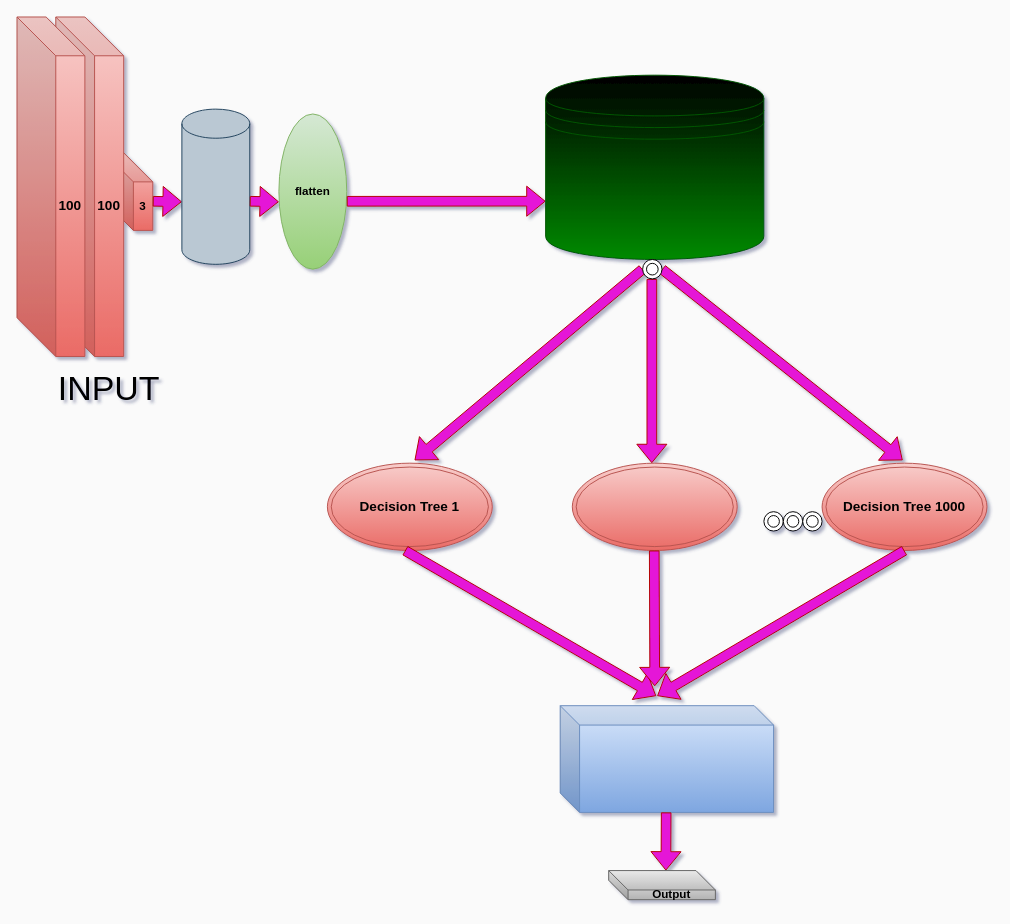
The diagram is 1010 pixels wide and 924 high, and some of its shapes have lost their labels. Each missing label, with the box of its shape:
Decision Tree 2: (571, 462, 737, 550)
Random Forest (estimator=1000, random state=42): (545, 74, 764, 259)
vgg16 (feature extractor) for training: (181, 108, 250, 264)
Voting (Averaging): (559, 705, 774, 812)
